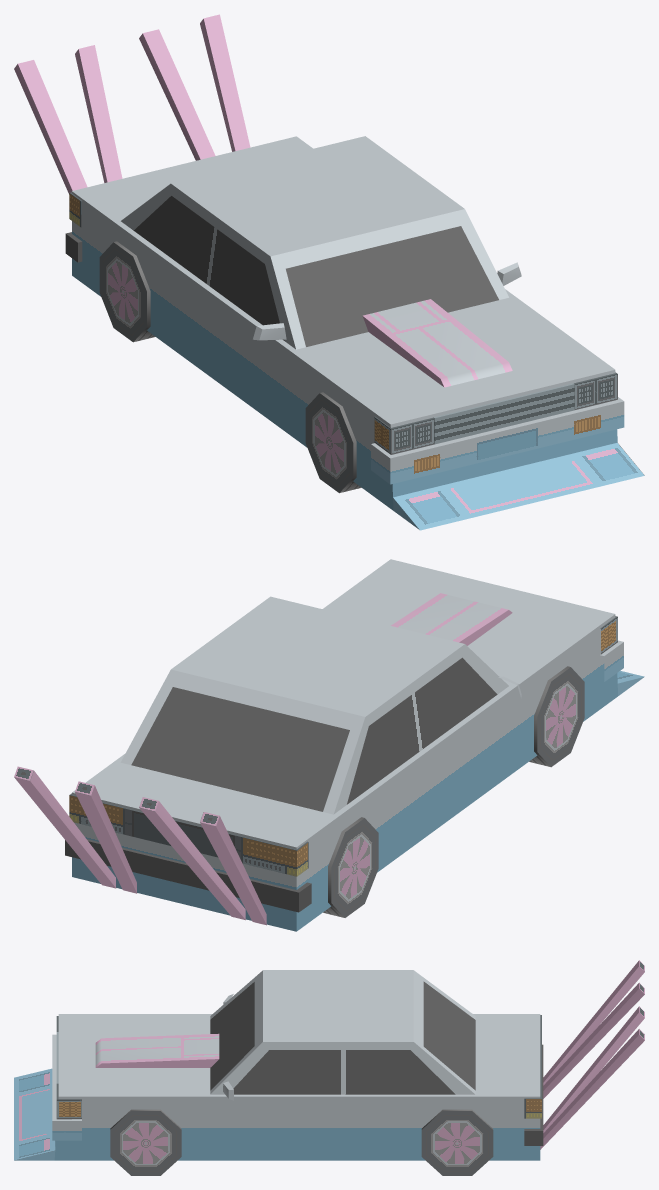
Rendered from 0405_Gangster_Car.glb.
3 renders of one model, top to bottom at view 1: azimuth 30°, elevation 25°; view 2: azimuth 150°, elevation 25°; view 3: azimuth 270°, elevation 25°, orthographic. The views are drawn at different scales.
Parts seen in each view (by area): view 1: part_0, part_1, part_2; view 2: part_0, part_1, part_2; view 3: part_0, part_2, part_1.
Part boxes in pixels (<box>): part_0: <box>14,14,644,530</box>; part_1: <box>305,392,361,493</box>; part_2: <box>99,241,155,342</box>; part_0: <box>14,559,644,931</box>; part_1: <box>529,666,584,767</box>; part_2: <box>323,817,378,917</box>; part_0: <box>14,960,644,1160</box>; part_2: <box>421,1109,493,1175</box>; part_1: <box>110,1109,181,1175</box>.
Size of the model in its own units: 1.93 by 1.23 by 5.19.
3 materials, 3 textured.
